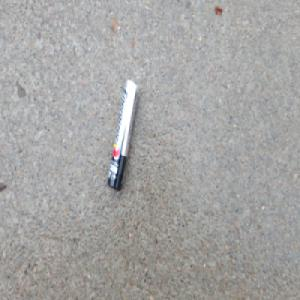Battery: (106, 77, 139, 191)
